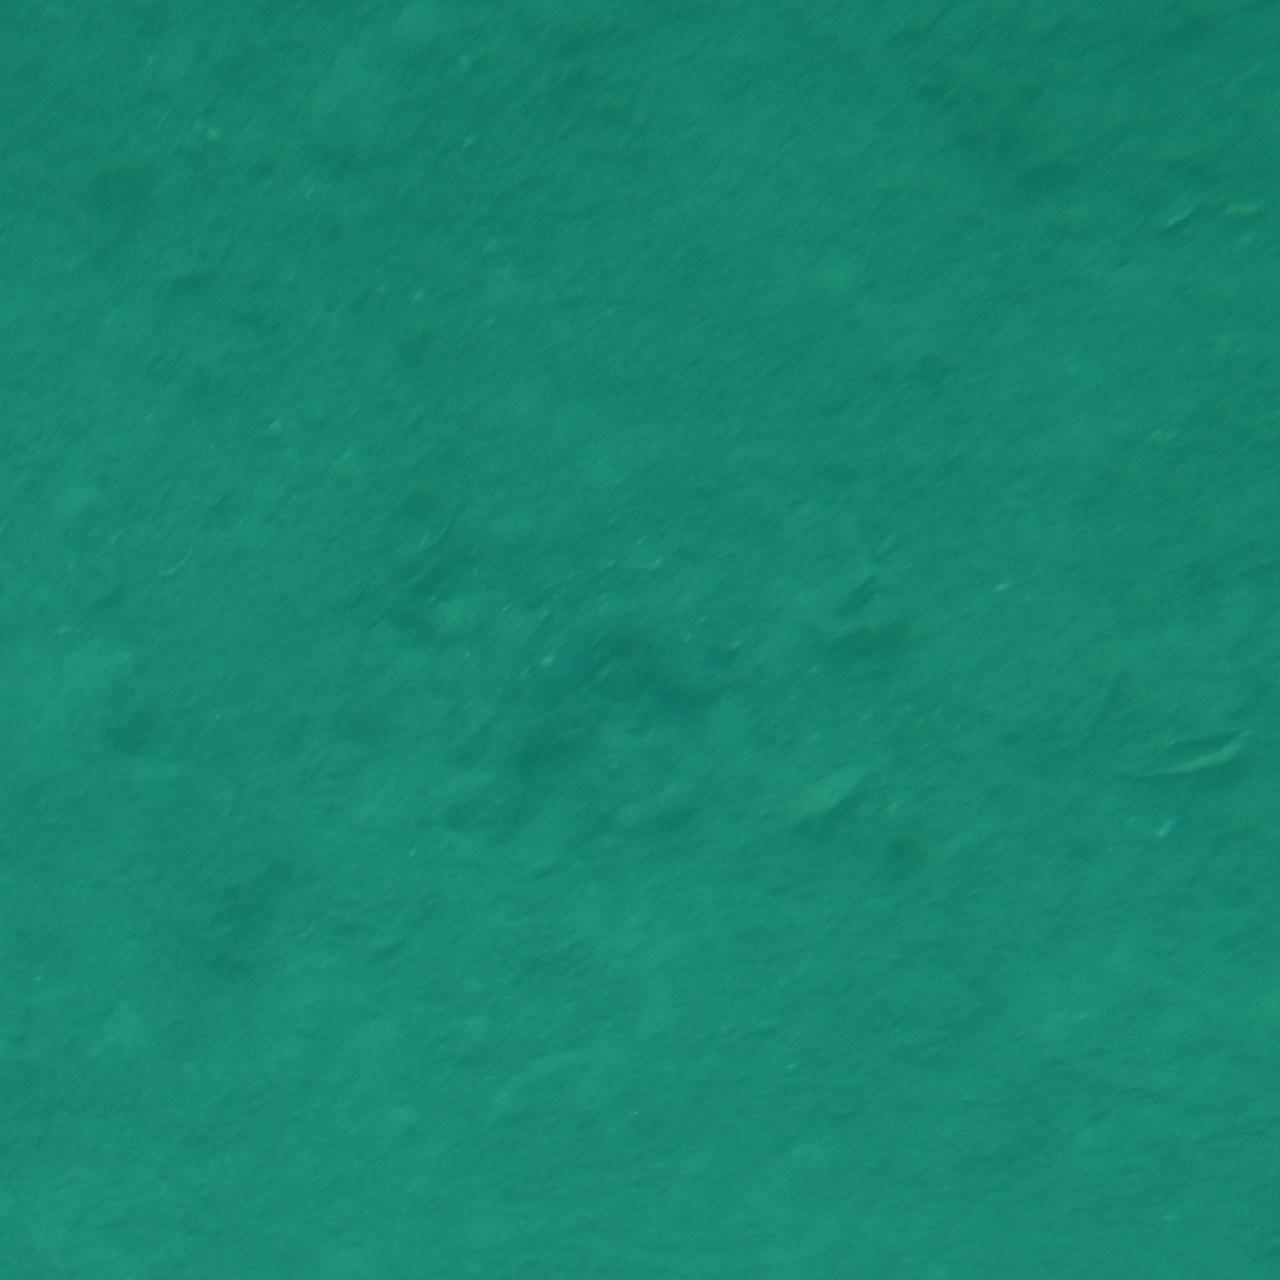Holothuria tubulosa: (501, 556, 779, 724)
